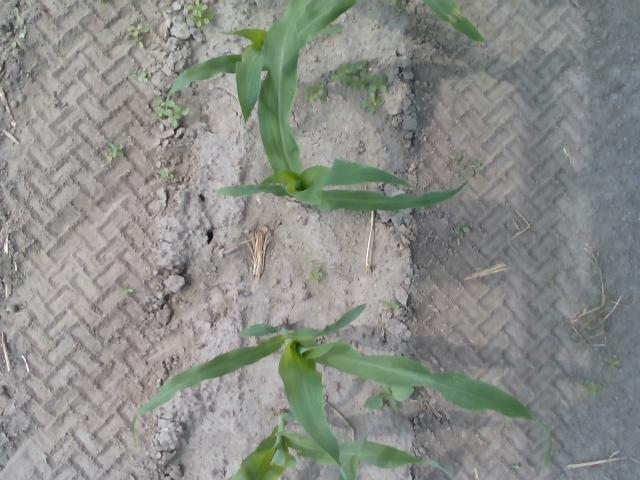Maize: (134, 303, 554, 469), (213, 0, 468, 211), (164, 0, 488, 116), (228, 413, 452, 480)
Weeds: (326, 60, 387, 112), (364, 386, 414, 408), (186, 0, 210, 28), (126, 24, 148, 46), (304, 80, 324, 102), (165, 100, 188, 118), (580, 380, 602, 397), (454, 220, 468, 240), (468, 159, 484, 176), (108, 143, 125, 157), (156, 166, 174, 178), (453, 155, 466, 170), (608, 358, 620, 372), (309, 269, 324, 280), (138, 71, 148, 82), (122, 288, 134, 294)
